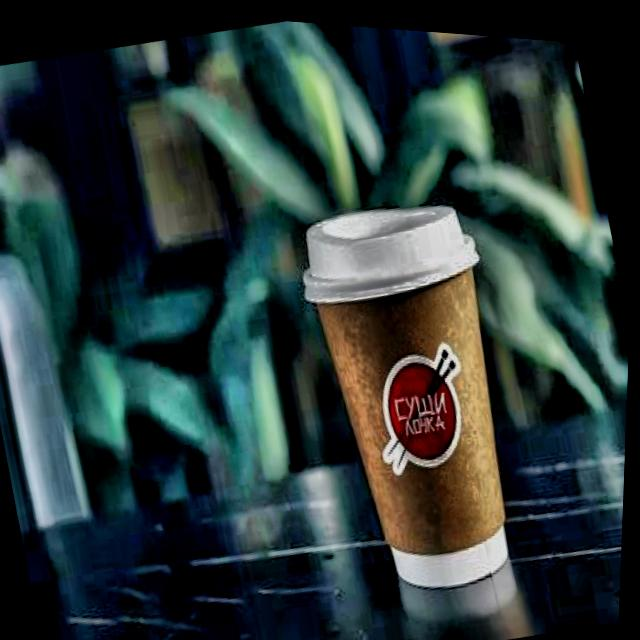Cup: (276, 182, 559, 612)
